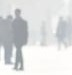person: (9, 8, 29, 71), (3, 15, 15, 65), (54, 16, 69, 51), (39, 20, 48, 47)
